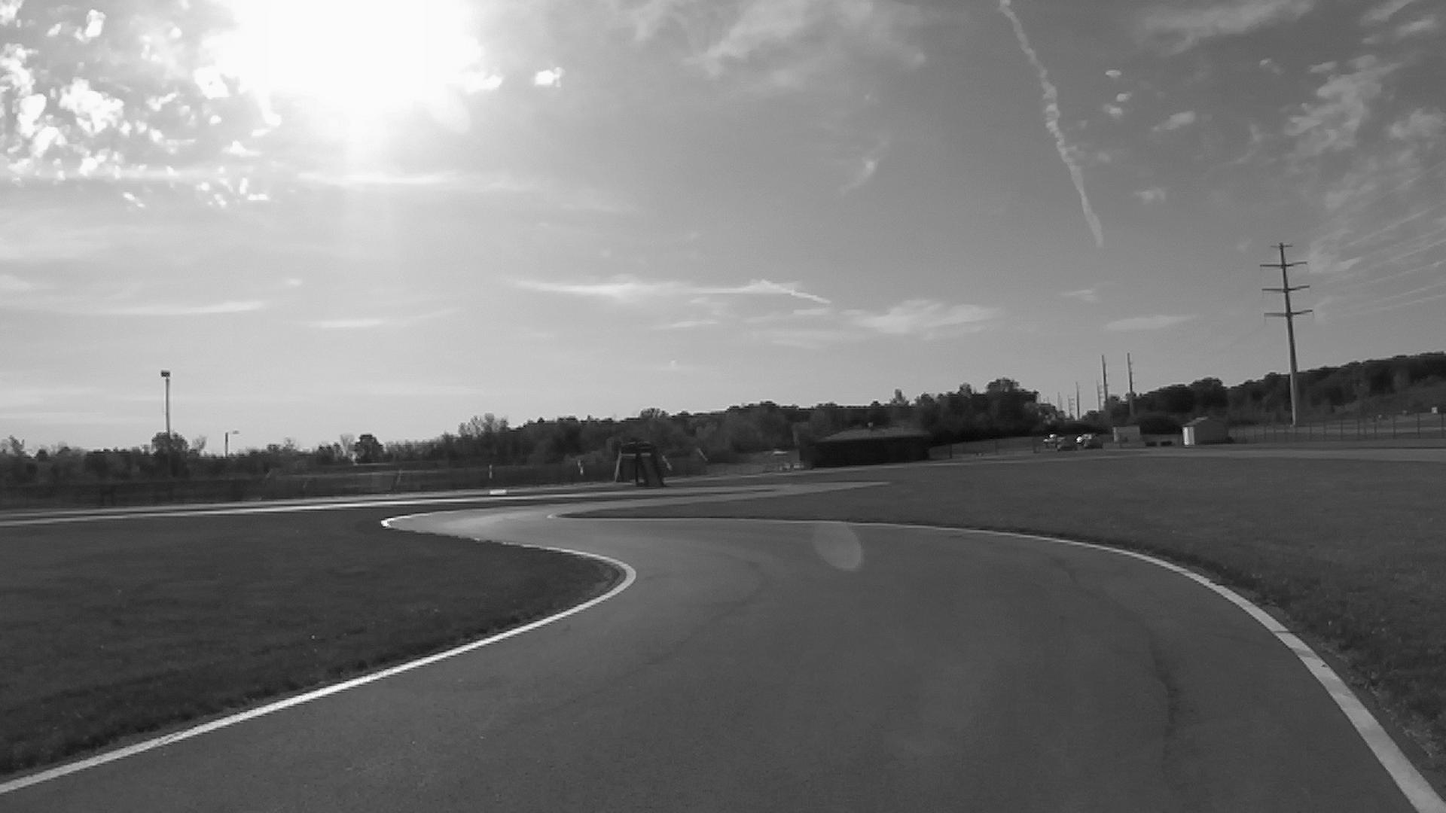white-line: (761, 520, 1446, 813), (0, 544, 637, 795), (382, 513, 428, 526)
